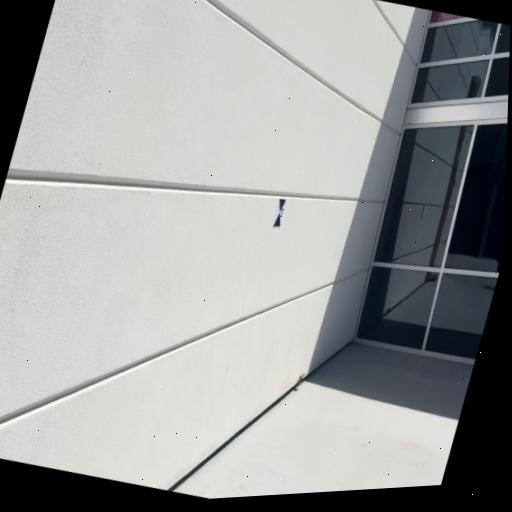target7: (272, 199, 287, 227)
